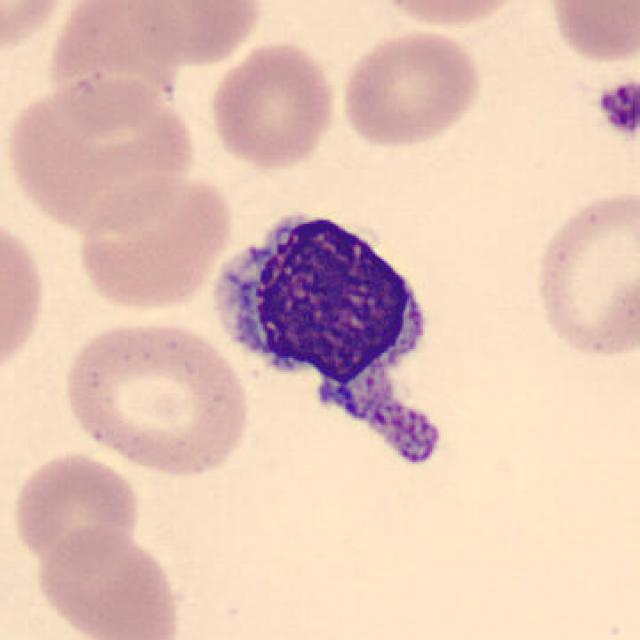Lymphocyte: (199, 192, 453, 488)
Platelets: (594, 76, 640, 141)
RBC: (2, 70, 199, 234), (59, 316, 254, 480), (73, 169, 236, 314), (526, 184, 638, 364), (336, 25, 485, 152), (206, 39, 342, 173), (32, 524, 183, 638), (9, 448, 144, 568), (121, 0, 267, 69), (0, 208, 50, 388), (542, 0, 640, 67), (363, 0, 533, 32), (0, 0, 73, 63)
